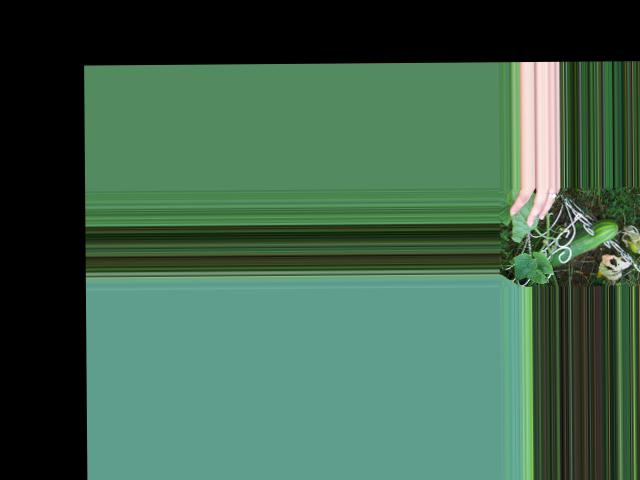cucumber: (548, 218, 618, 266)
